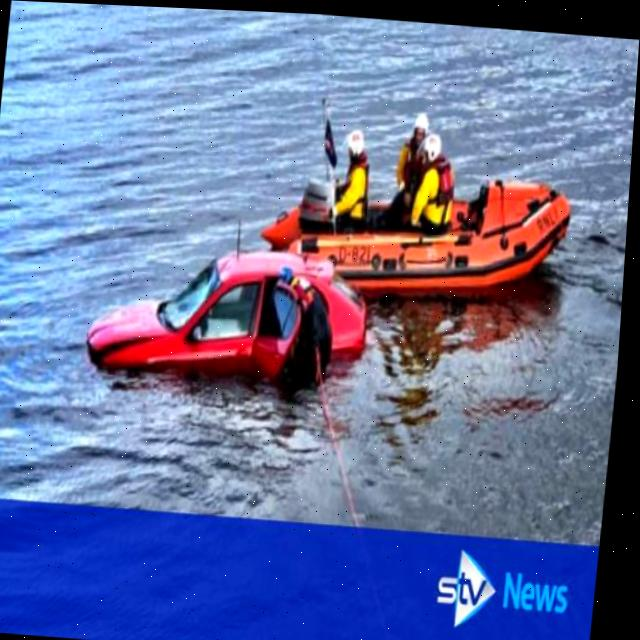rescuer: (308, 111, 386, 251), (404, 131, 468, 244), (389, 102, 447, 207)
